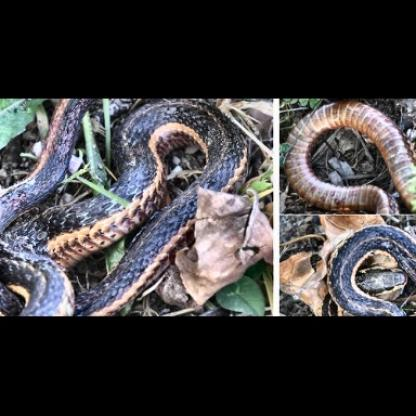Snake: (2, 95, 266, 310), (296, 91, 414, 315)
